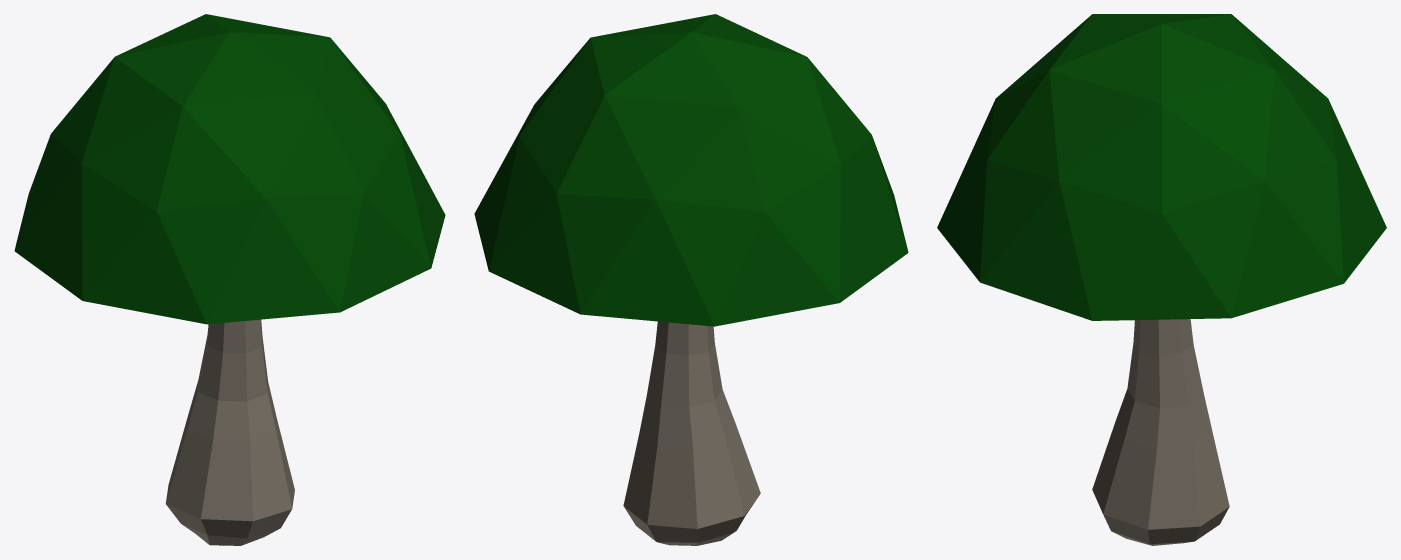
File: mushroom-3.fbx
The picture shows the model from 3 angles, left to right: view 1: azimuth 30°, elevation 25°; view 2: azimuth 150°, elevation 25°; view 3: azimuth 270°, elevation 25°; orthographic projection. The views are drawn at different scales.
Parts seen in each view (by area): view 1: Mushroom 3; view 2: Mushroom 3; view 3: Mushroom 3.
Part boxes in pixels (<box>): Mushroom 3: <box>14,14,445,545</box>; Mushroom 3: <box>474,14,908,545</box>; Mushroom 3: <box>937,14,1386,545</box>.
Bounding box in the file's own units: 124 × 162 × 130.
